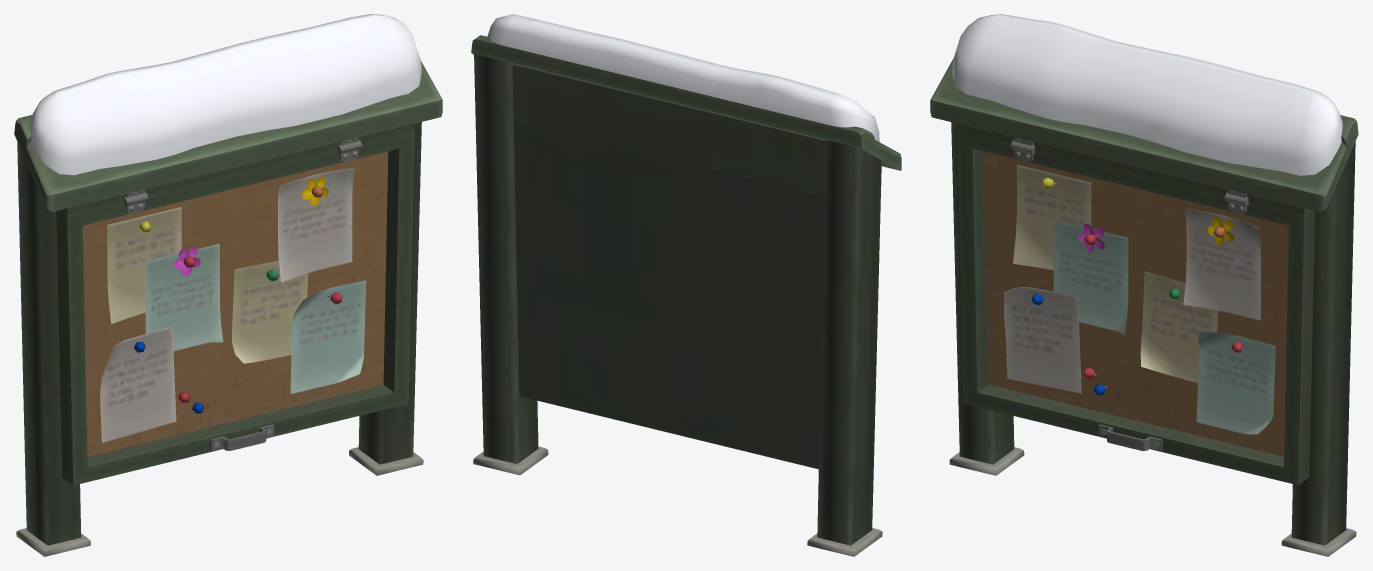
Rendered from bulletin-board-winter.glb.
3 renders of one model, left to right at view 1: azimuth 30°, elevation 25°; view 2: azimuth 150°, elevation 25°; view 3: azimuth 330°, elevation 25°, orthographic.
Size of the model in its own units: 16.95 by 18.31 by 3.09.
Materials: 2 (1 with a texture image).
